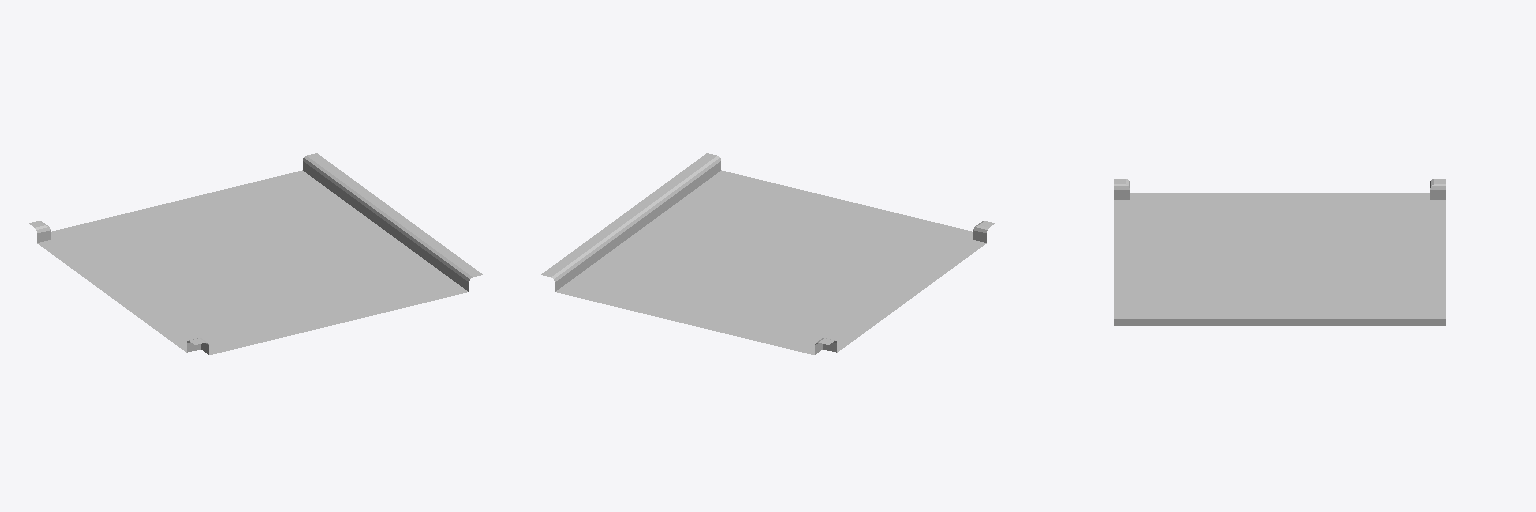
The model's file is T-int_2.obj.
3 views of the same model, side by side, from view 1: azimuth 30°, elevation 25°; view 2: azimuth 150°, elevation 25°; view 3: azimuth 270°, elevation 25° (orthographic).
Parts seen in each view (by area): view 1: pCube8; view 2: pCube8; view 3: pCube8.
Boxes of the visible parts, x1,y1,x2,y2 form: pCube8: [29, 153, 482, 354]; pCube8: [541, 153, 994, 354]; pCube8: [1114, 179, 1445, 325].
Size of the model in its own units: 20 by 0.9118 by 20.